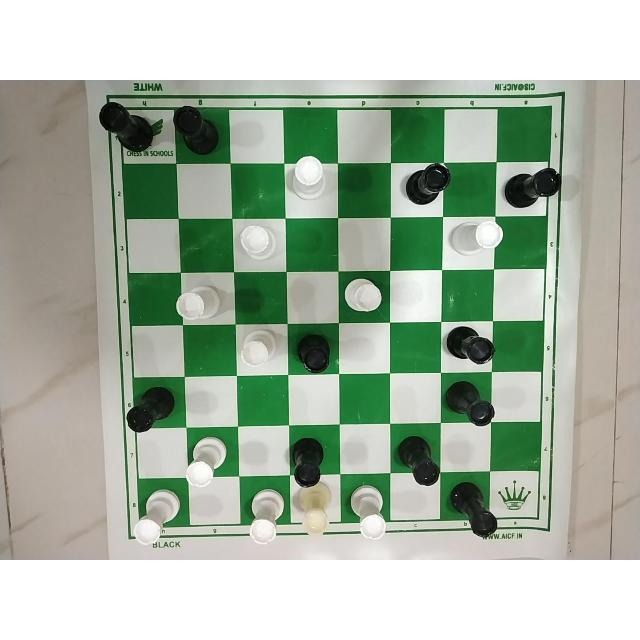black-rook: (93, 101, 160, 157), (448, 478, 502, 538), (502, 162, 562, 211), (168, 106, 221, 159), (444, 378, 497, 428), (394, 435, 442, 489), (125, 386, 175, 434), (445, 324, 498, 368), (404, 161, 452, 207), (288, 435, 328, 489), (294, 334, 334, 376)
white-rook: (132, 489, 182, 545), (344, 485, 392, 541), (449, 216, 506, 260), (292, 480, 336, 537), (246, 487, 287, 547), (186, 435, 230, 487), (173, 282, 222, 328), (289, 155, 329, 209), (237, 220, 281, 264), (238, 328, 282, 367), (342, 276, 386, 315)
